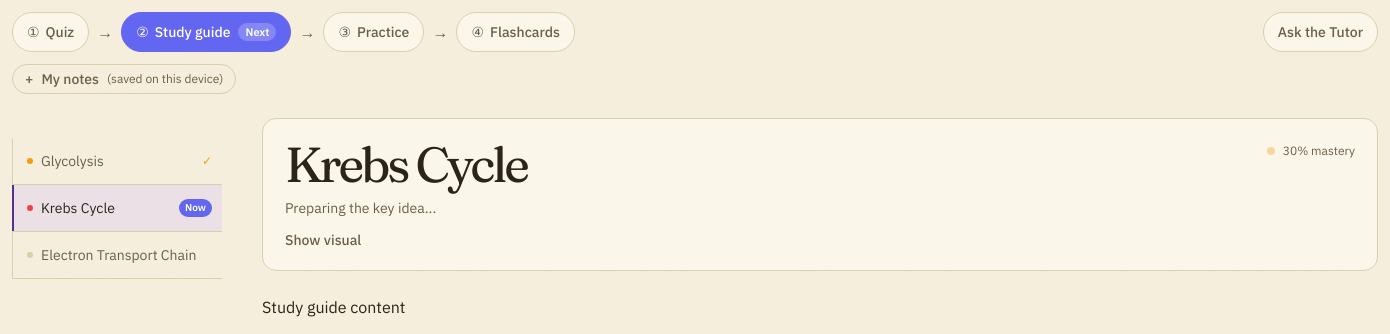
MaterialWorkspace › selecting a different concept in the rail updates the central focus
Click the button "Electron Transport Chain" at x=118, y=256, box [13,232,222,279]
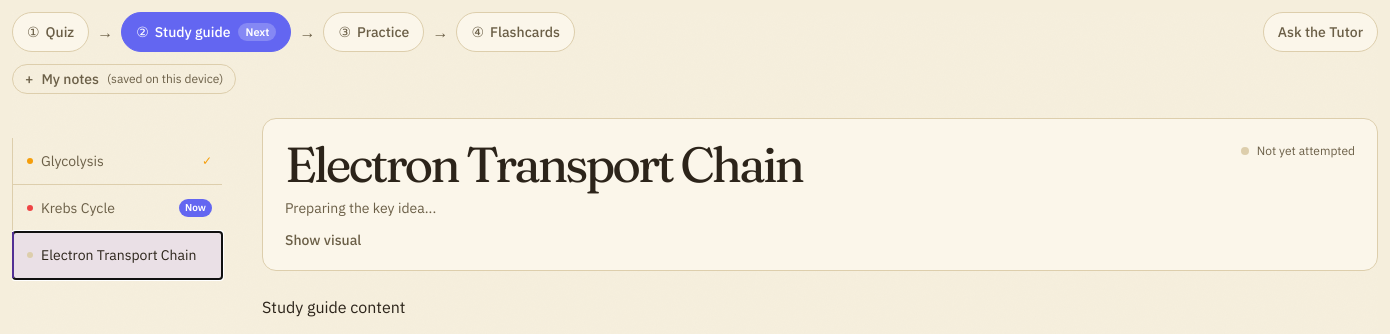
Expected: the heading "Electron Transport Chain" is shown, [285,139,802,190]
